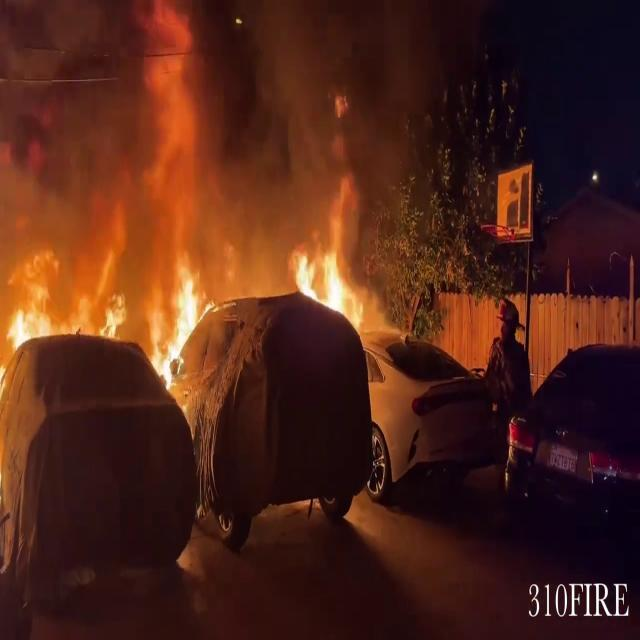Fire: (149, 266, 213, 398), (289, 241, 363, 331)
Smoke: (0, 0, 444, 245)
